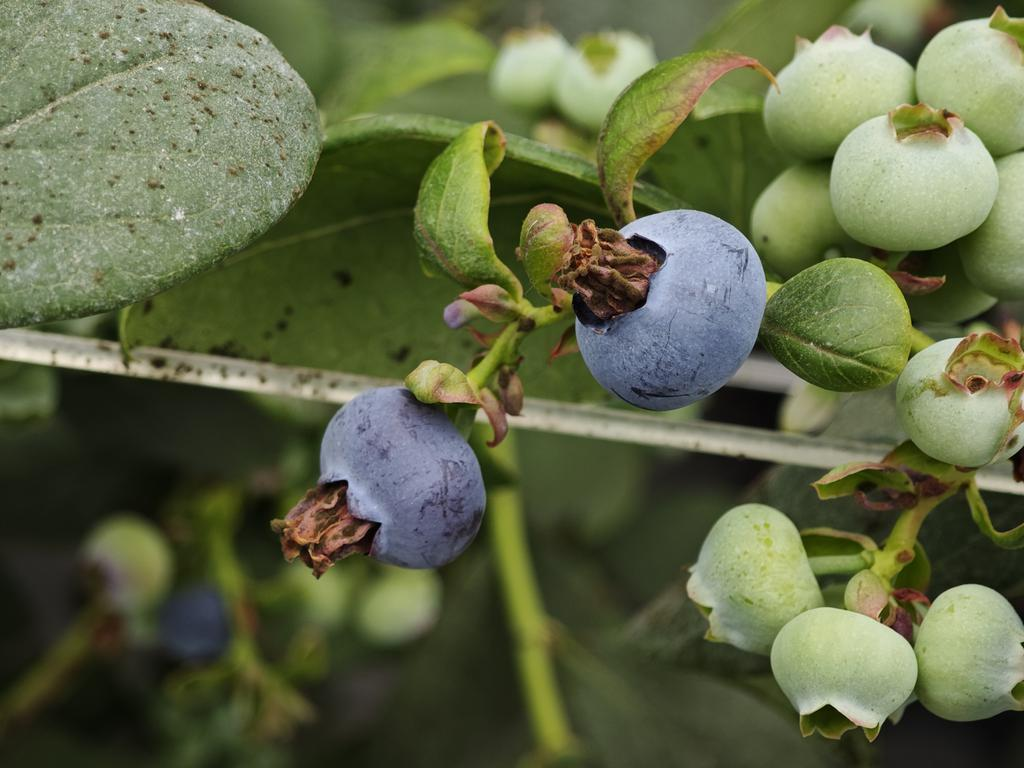RipeBlueBerry: (569, 205, 771, 411), (290, 387, 490, 573)
UnripeBlueBerry: (828, 102, 1003, 256), (768, 604, 920, 746)
